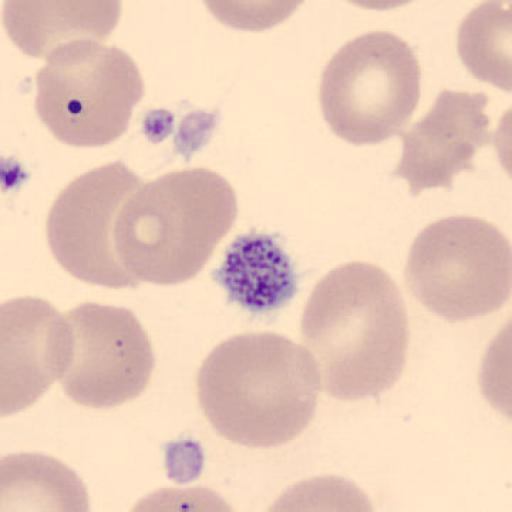Platelet: (210, 228, 302, 314)
RBC: (192, 329, 324, 452), (300, 259, 411, 403), (111, 165, 239, 288), (44, 159, 154, 291), (317, 28, 424, 148), (33, 36, 145, 150), (401, 214, 512, 324), (56, 299, 156, 410), (395, 87, 490, 194), (1, 294, 77, 420), (1, 0, 124, 61), (2, 450, 92, 512), (455, 0, 512, 92), (256, 472, 377, 512), (197, 0, 312, 35), (476, 319, 512, 423), (119, 485, 247, 512), (492, 106, 512, 180), (329, 0, 430, 13)
